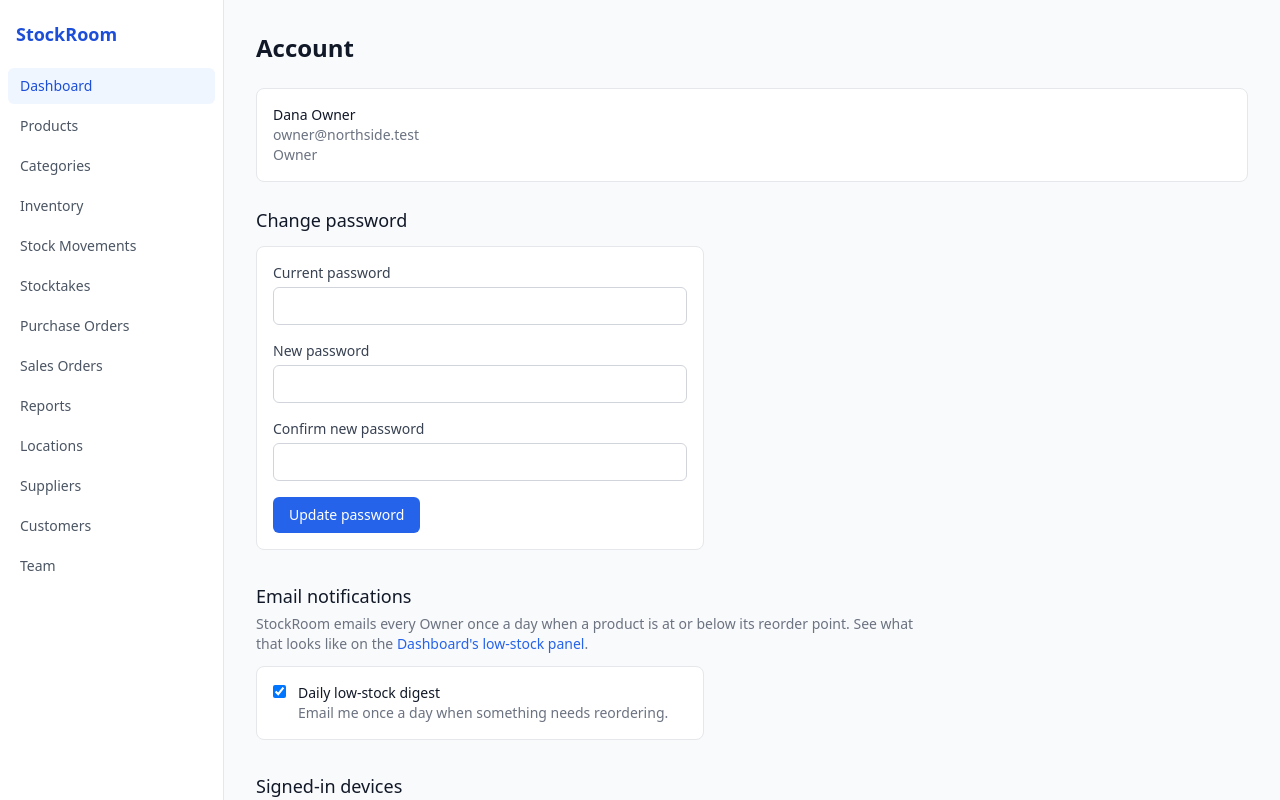
Scenario: AccountPage change password › keeps the form up with the server's message when the current password is wrong
Type "wrong-password" into the password field labelled "Current password" at [480, 306], box 273,287 -> 687,325
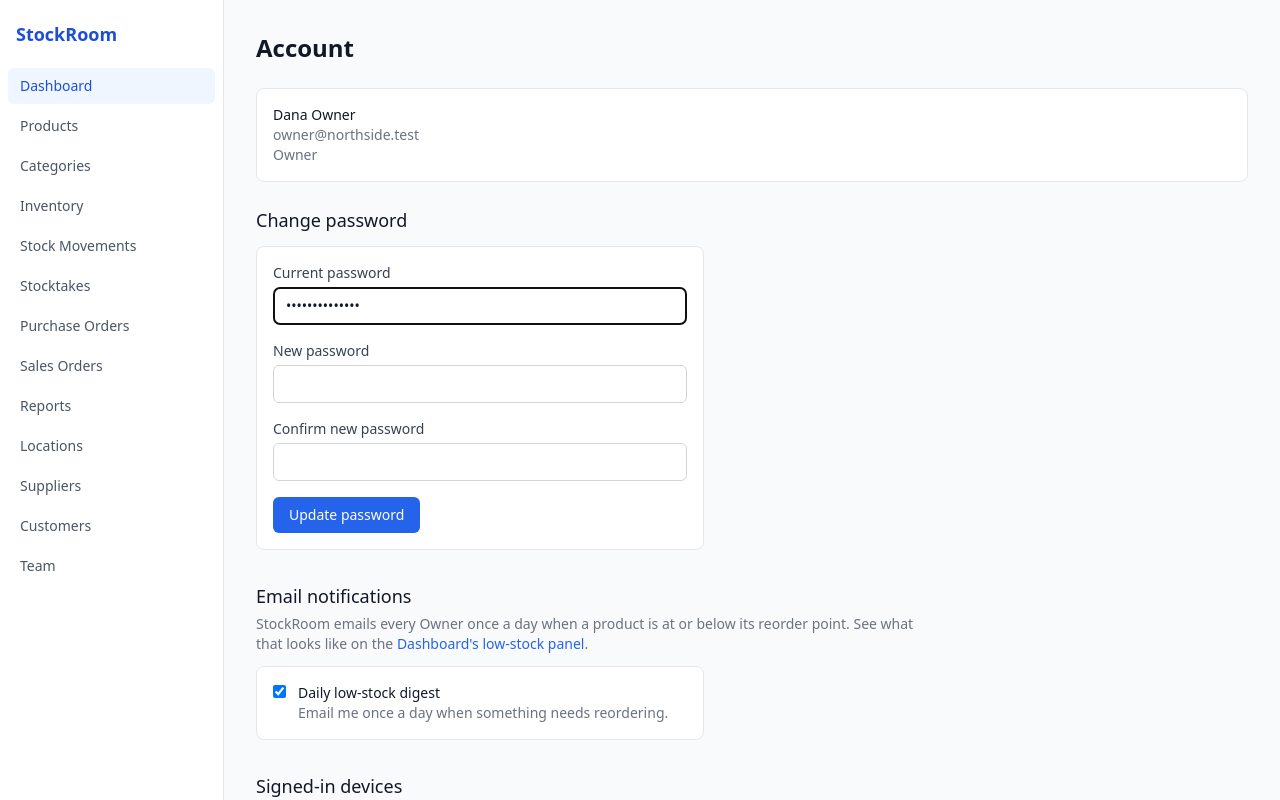
Type "new-password-1" into the password field labelled "New password" at [480, 384], box 273,365 -> 687,403
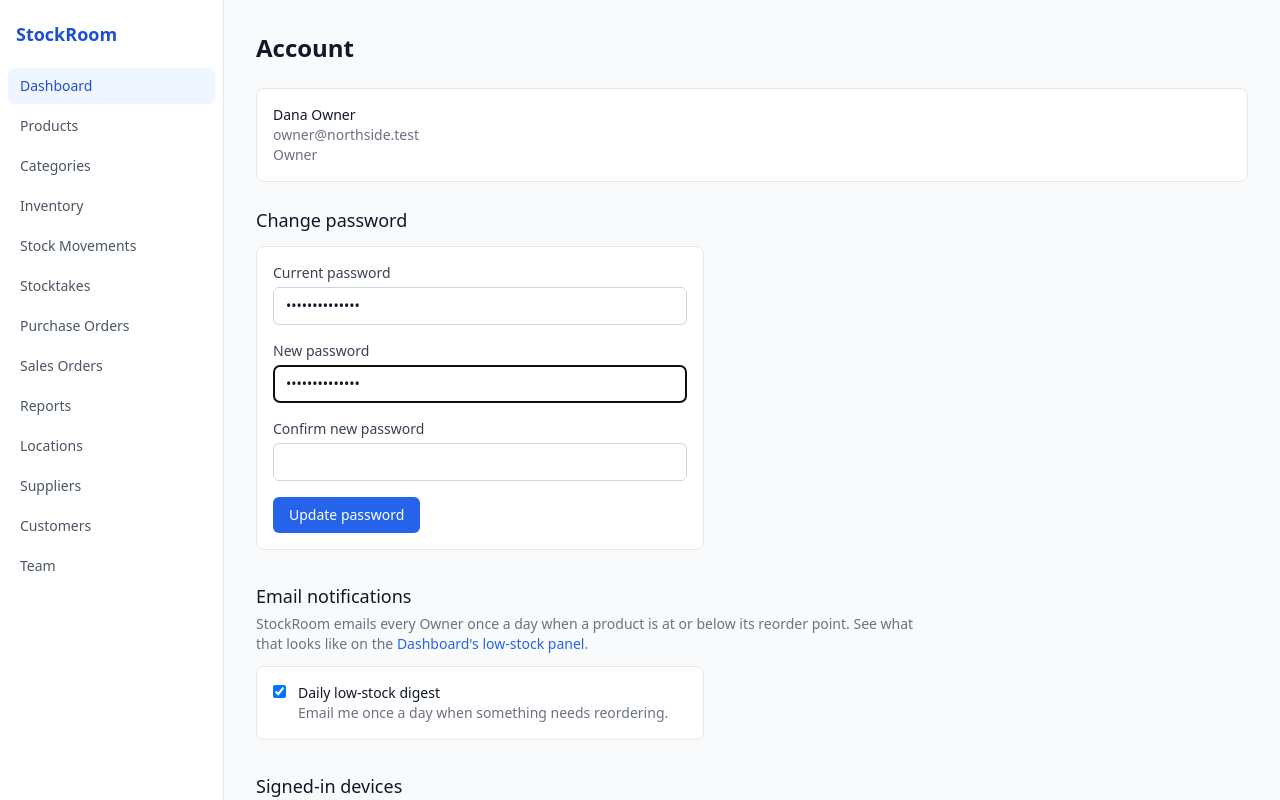
Type "new-password-1" into the password field labelled "Confirm new password" at [480, 462], box 273,443 -> 687,481
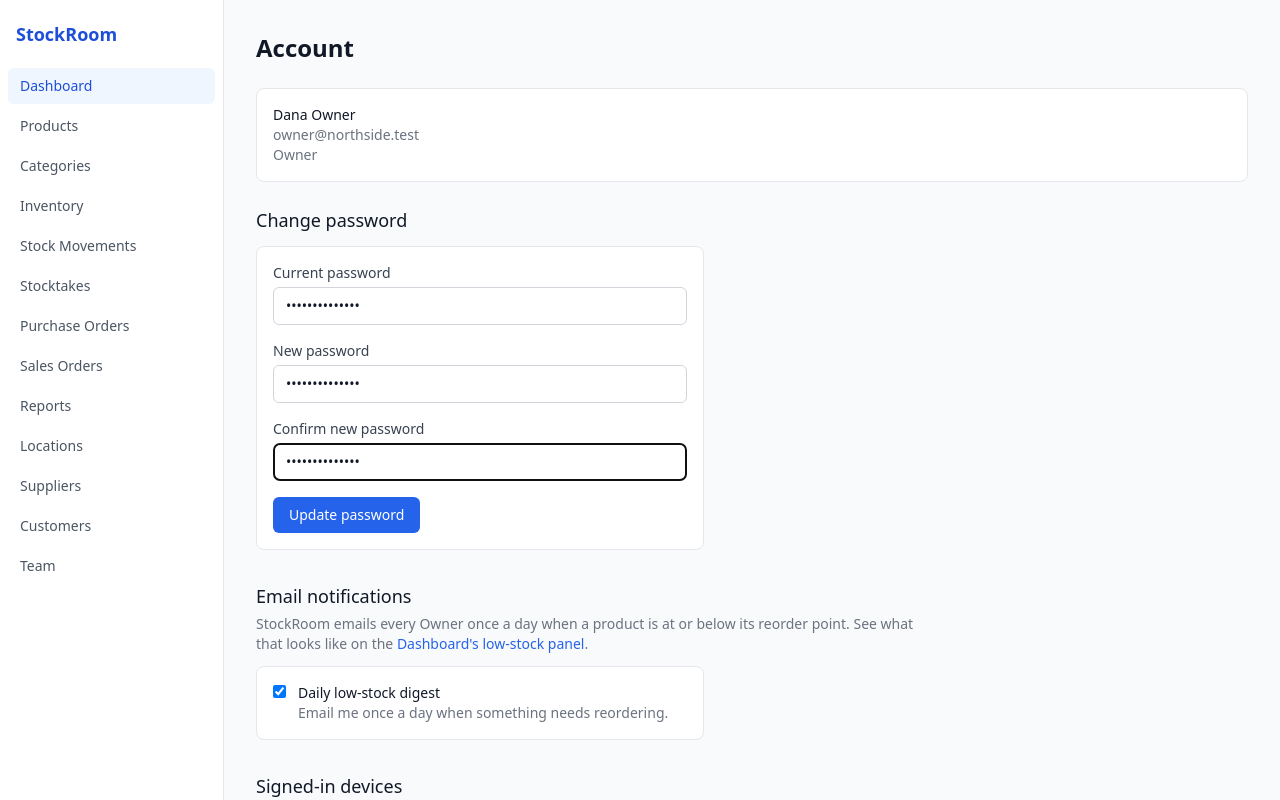
Click the button "Update password" at [347, 515], box 273,497 -> 420,533
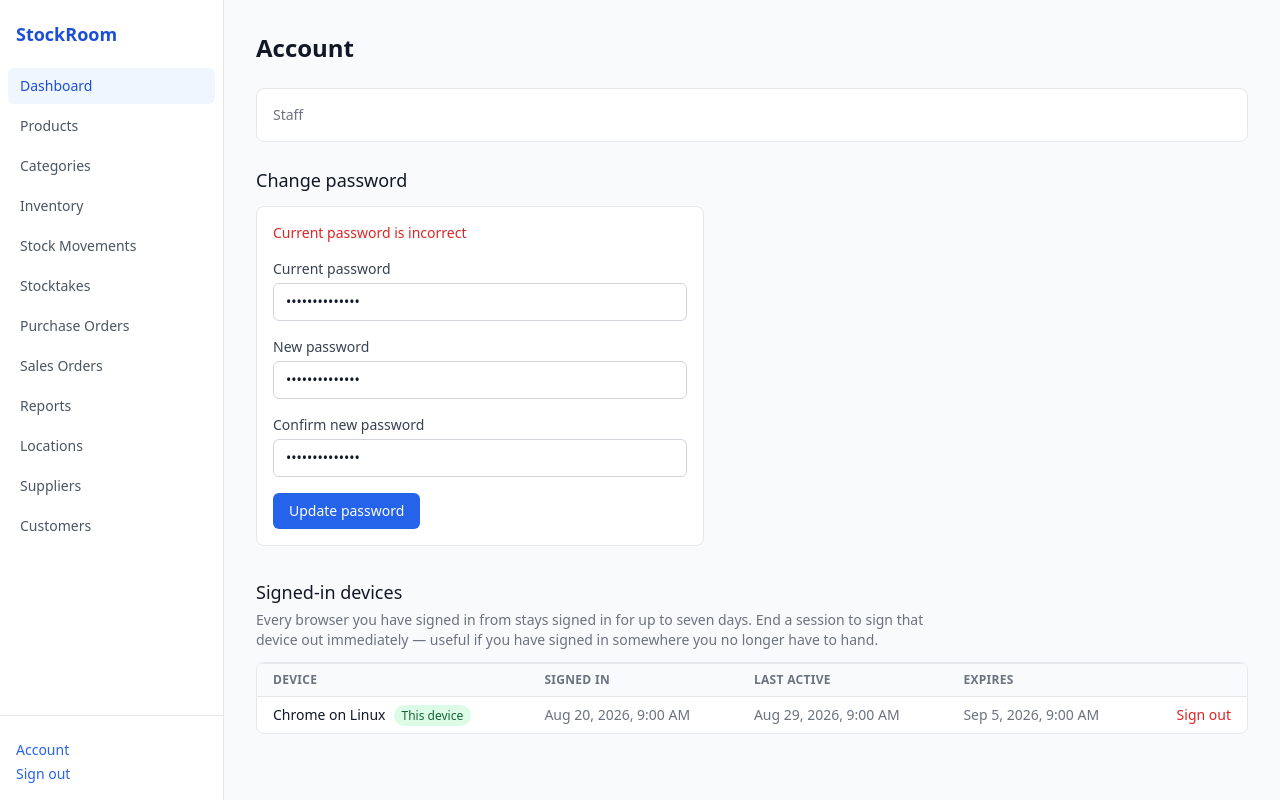
Check: the text "Current password is incorrect" is shown, box 273,223 -> 466,242
